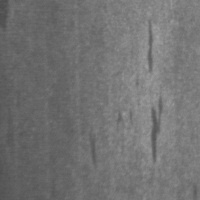inclusion: (149, 94, 165, 165), (143, 17, 157, 75), (83, 125, 100, 169), (114, 106, 136, 128)
